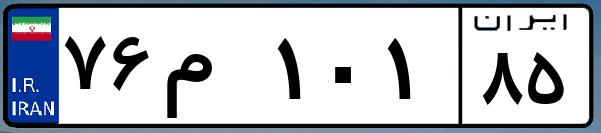0: (330, 28, 385, 110)
1: (270, 28, 330, 110), (385, 28, 445, 110)
5: (525, 38, 570, 115)
6: (110, 28, 158, 98)
7: (57, 26, 110, 100)
8: (475, 38, 525, 113)
م: (158, 20, 270, 120)
